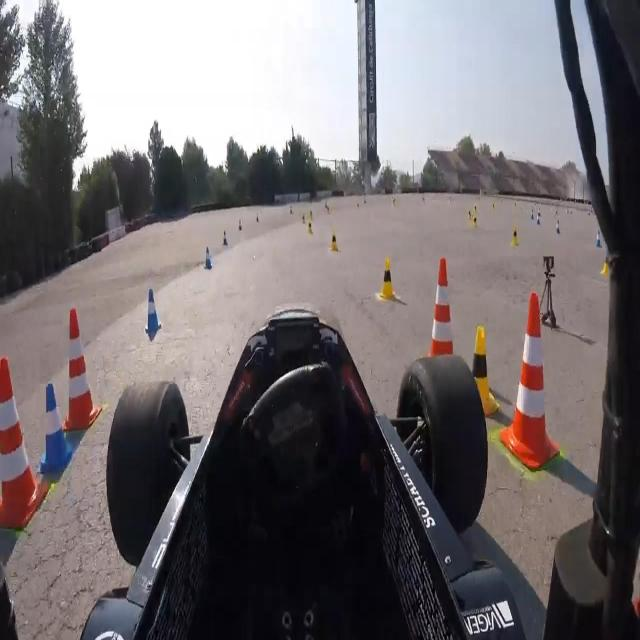blue_cone: (41, 382, 71, 478), (145, 286, 162, 332), (205, 244, 212, 270), (595, 228, 603, 248), (555, 220, 562, 234), (223, 230, 228, 247), (238, 220, 242, 233), (536, 214, 540, 227), (289, 204, 293, 216), (530, 209, 534, 220), (256, 212, 260, 222), (538, 206, 540, 217)
large_orange_cone: (496, 292, 562, 474), (0, 352, 43, 541), (424, 258, 460, 390), (65, 303, 100, 437)
yellow_cone: (463, 321, 498, 413), (377, 258, 395, 302), (600, 248, 610, 278), (329, 228, 340, 254), (510, 227, 519, 247), (308, 220, 314, 236), (473, 214, 478, 229), (468, 209, 472, 222), (309, 208, 313, 220), (474, 204, 478, 215), (302, 213, 305, 224), (327, 206, 331, 214), (492, 202, 495, 212)
